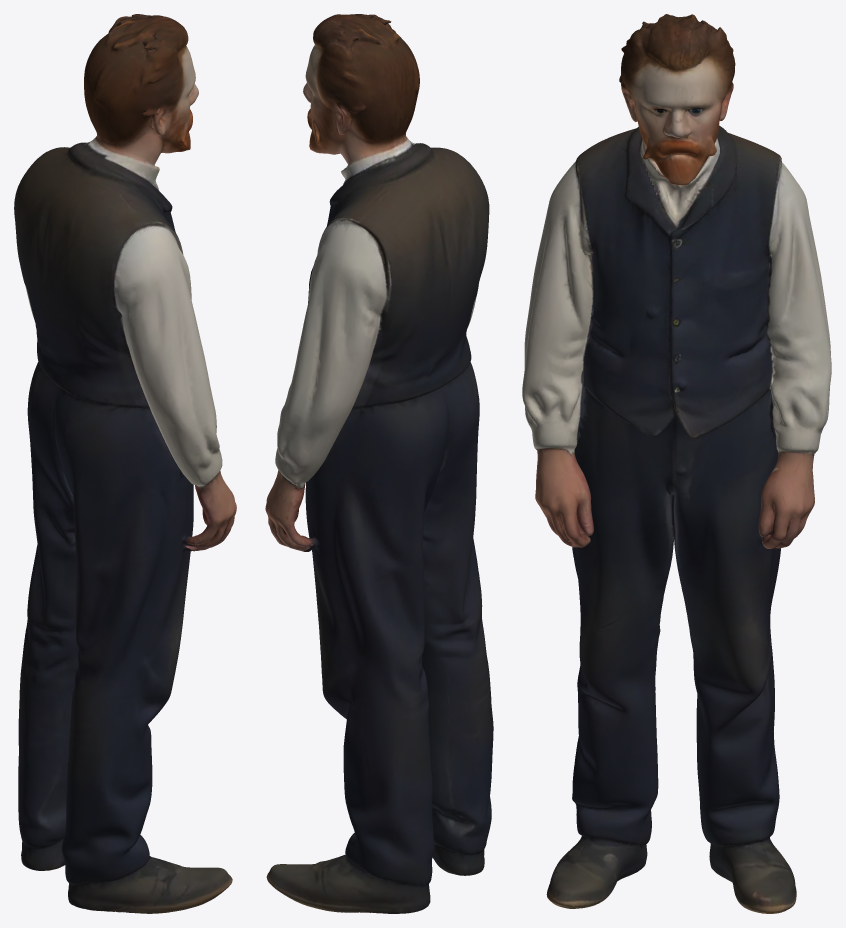
The model's file is van-gogh.glb.
The picture shows the model from 3 angles, left to right: view 1: azimuth 30°, elevation 25°; view 2: azimuth 150°, elevation 25°; view 3: azimuth 270°, elevation 25°; orthographic projection. The views are drawn at different scales.
Parts seen in each view (by area): view 1: tripo_node_74fc5664-0212-4c09-aee1-51bfd4069b49; view 2: tripo_node_74fc5664-0212-4c09-aee1-51bfd4069b49; view 3: tripo_node_74fc5664-0212-4c09-aee1-51bfd4069b49.
Boxes of the visible parts, <box> form: tripo_node_74fc5664-0212-4c09-aee1-51bfd4069b49: <box>14,14,236,913</box>; tripo_node_74fc5664-0212-4c09-aee1-51bfd4069b49: <box>265,14,493,913</box>; tripo_node_74fc5664-0212-4c09-aee1-51bfd4069b49: <box>522,14,831,913</box>.
Size of the model in its own units: 0.1956 by 1 by 0.3174.
1 material, 1 textured.
